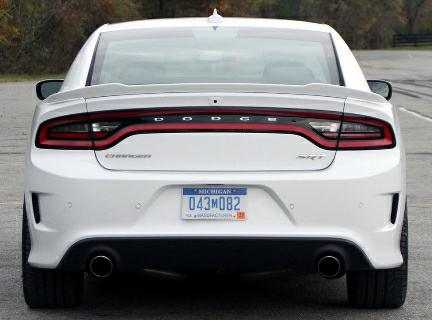道奇-ChargerSRT: (19, 6, 417, 317)
